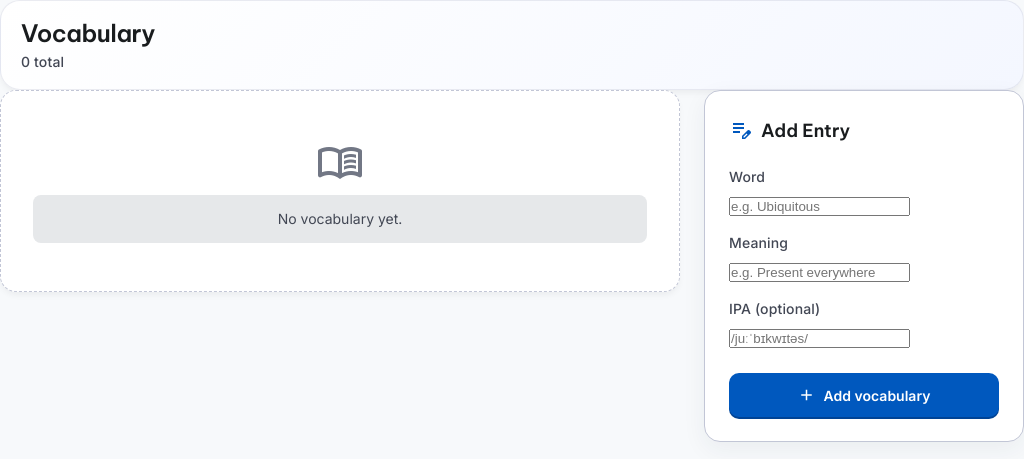
Scenario: TEST-013 vocabulary and IPA UI › renders a safe fallback for non-Error save failures
Expected: the text "No vocabulary yet." is shown, [33, 195, 647, 243]
Type "word" into the field labelled "Word" at x=820, y=206, box [729, 197, 910, 216]
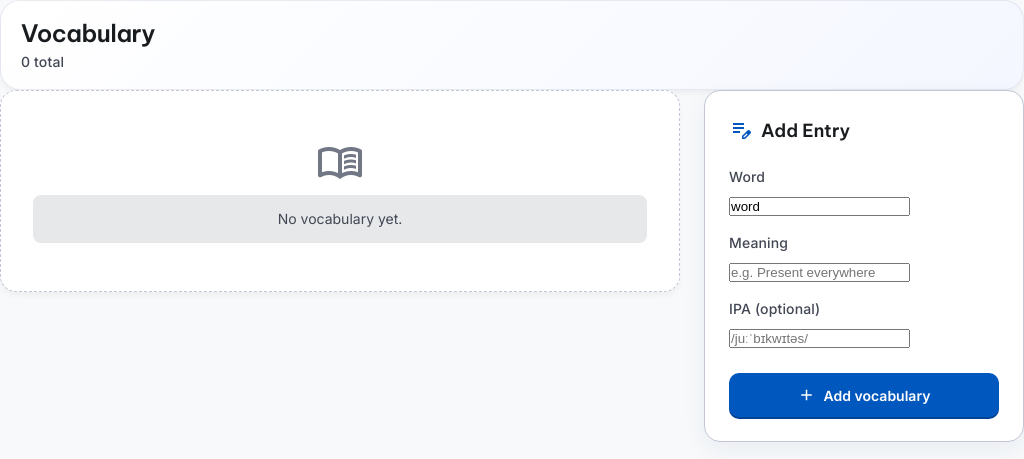
Type "meaning" into the field labelled "Meaning" at x=820, y=272, box [729, 263, 910, 282]
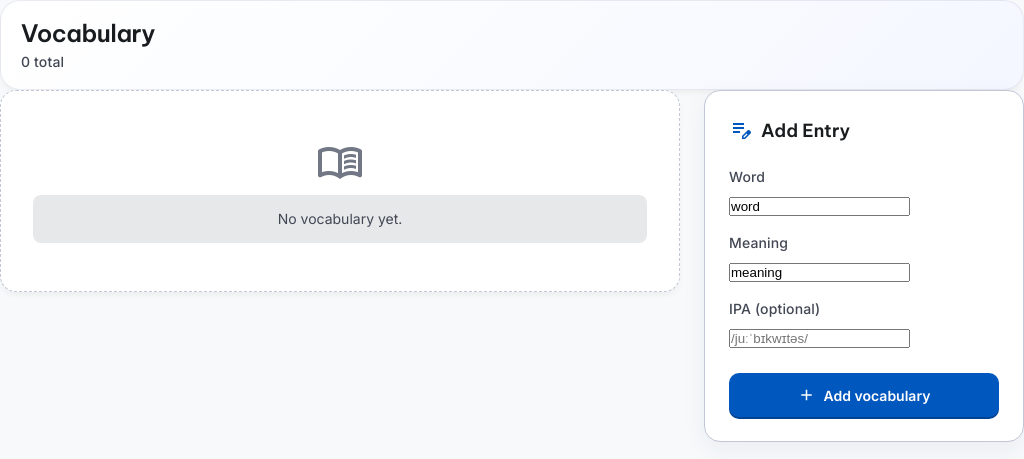
Click the button "Add vocabulary" at x=864, y=395, box [729, 373, 999, 417]
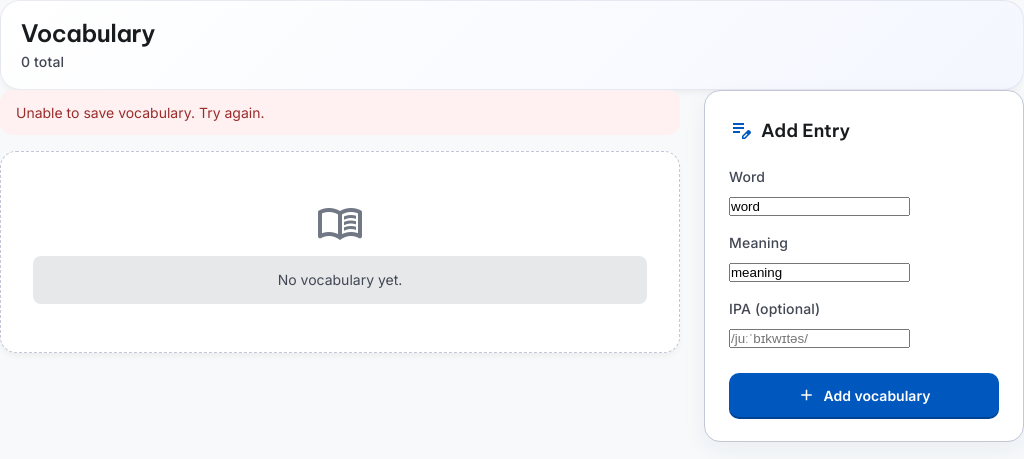
Expected: the message "Unable to save vocabulary. Try again." is shown, [0, 90, 680, 135]
